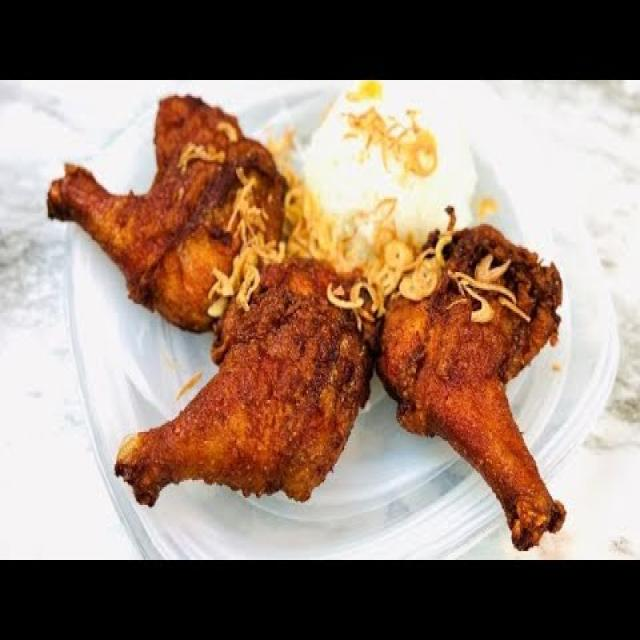carb: (270, 83, 475, 314)
meat: (49, 98, 566, 550)
